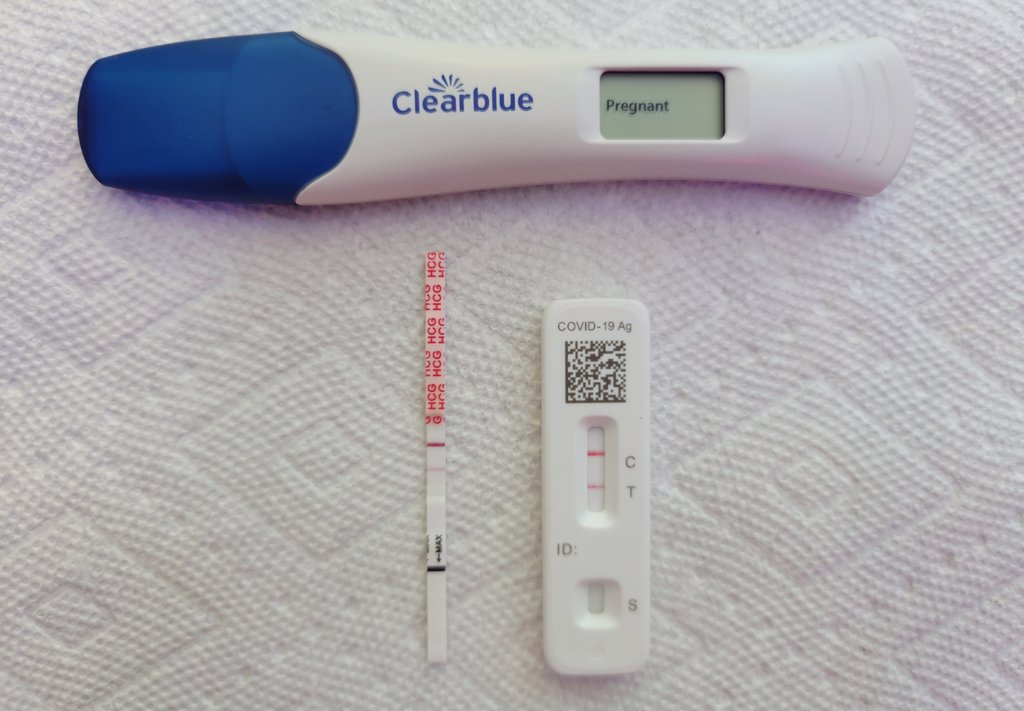positive: (581, 417, 610, 528)
